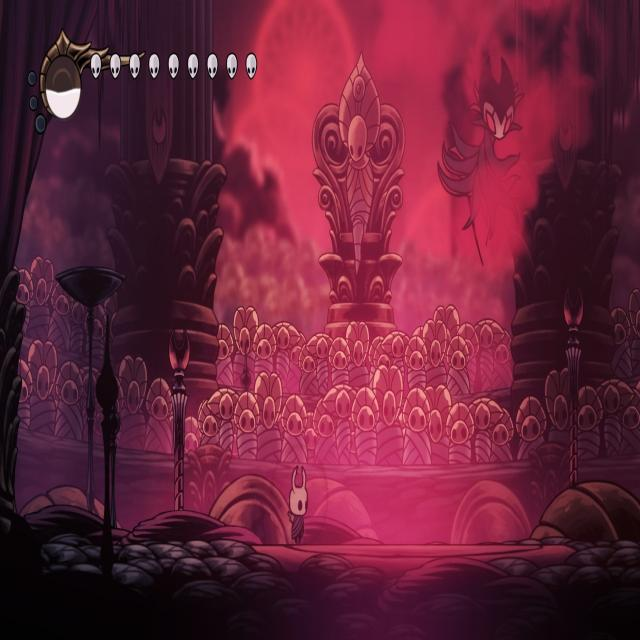Dive Dash: (430, 46, 530, 272)
Player: (285, 459, 311, 546)
